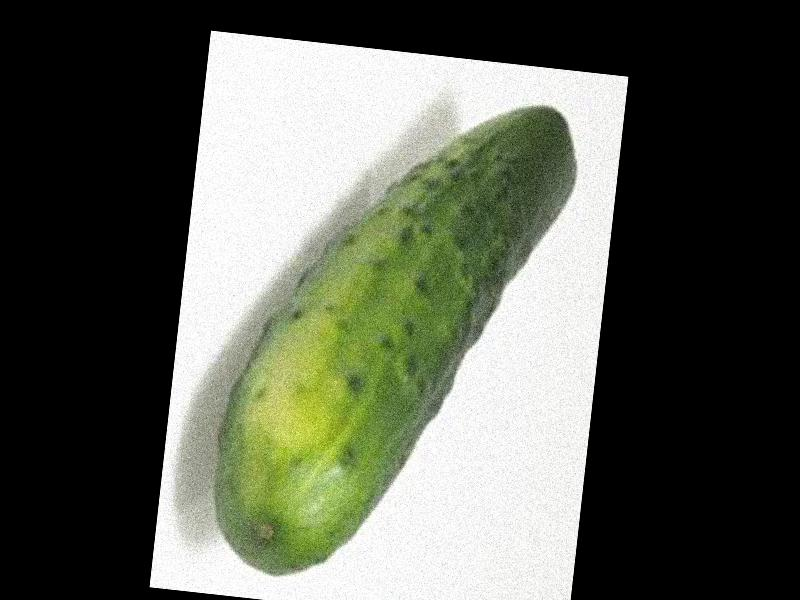Cucumber: (208, 74, 583, 599)
